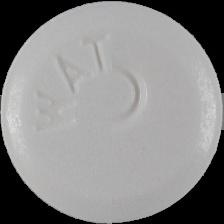54868-6273: (0, 0, 224, 224)
